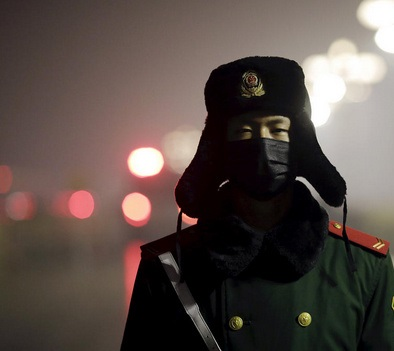face_mask: (222, 100, 295, 189)
